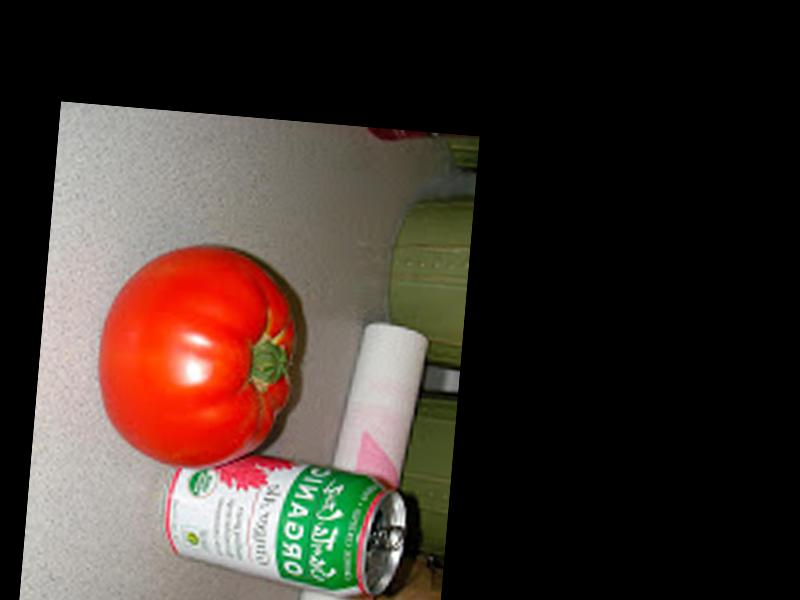Tomato: (92, 240, 300, 473)
